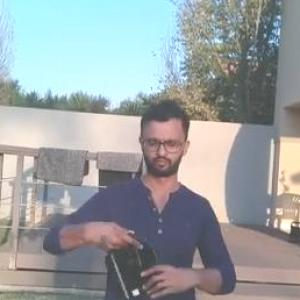follow: (37, 92, 241, 299)
